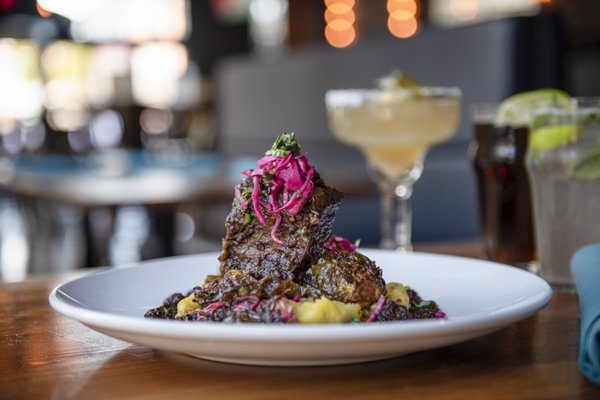pizza: (525, 106, 600, 290)
